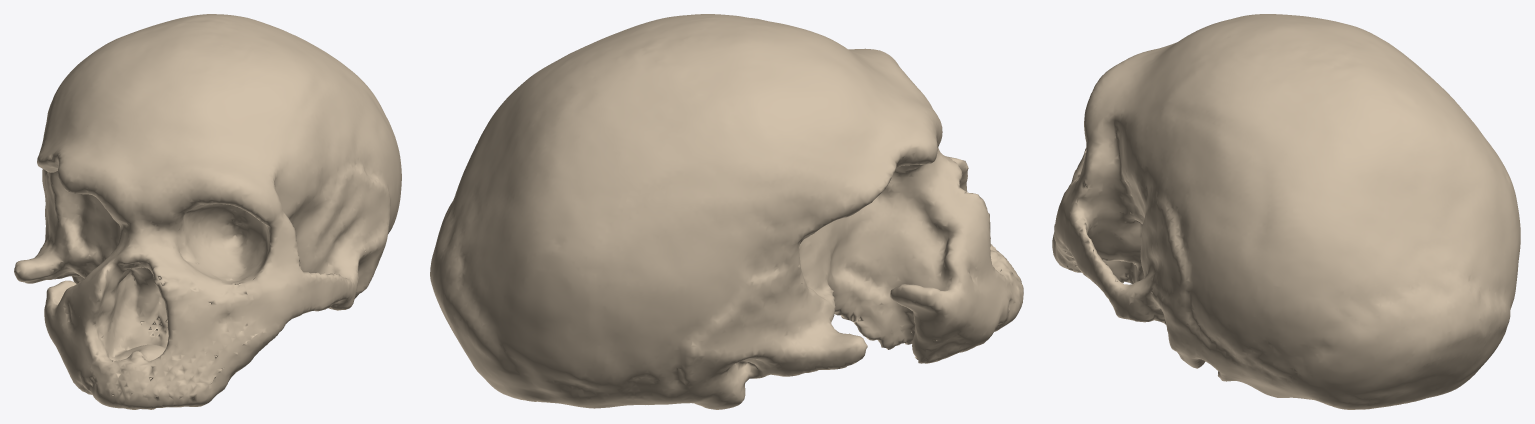
File: circeo-1.glb
3 views of the same model, side by side, from view 1: azimuth 30°, elevation 25°; view 2: azimuth 150°, elevation 25°; view 3: azimuth 270°, elevation 25° (orthographic). The views are drawn at different scales.
Bounding box in the file's own units: 0.9991 × 0.689 × 0.9946.
